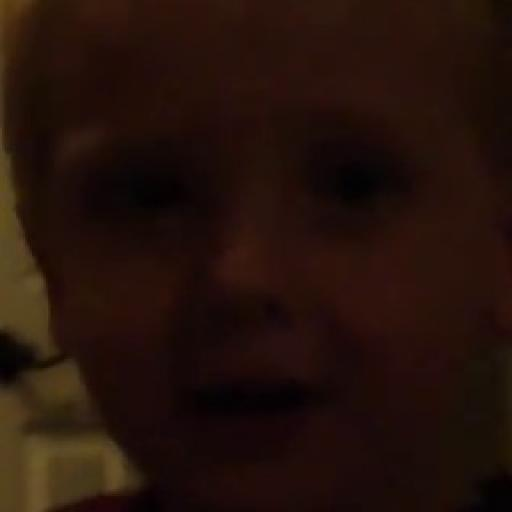Autism: (31, 1, 512, 512)
